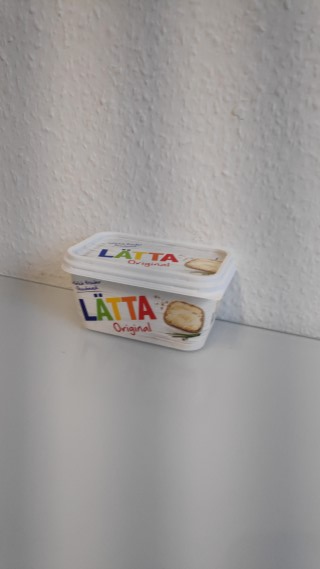laetta: (60, 228, 238, 353)
